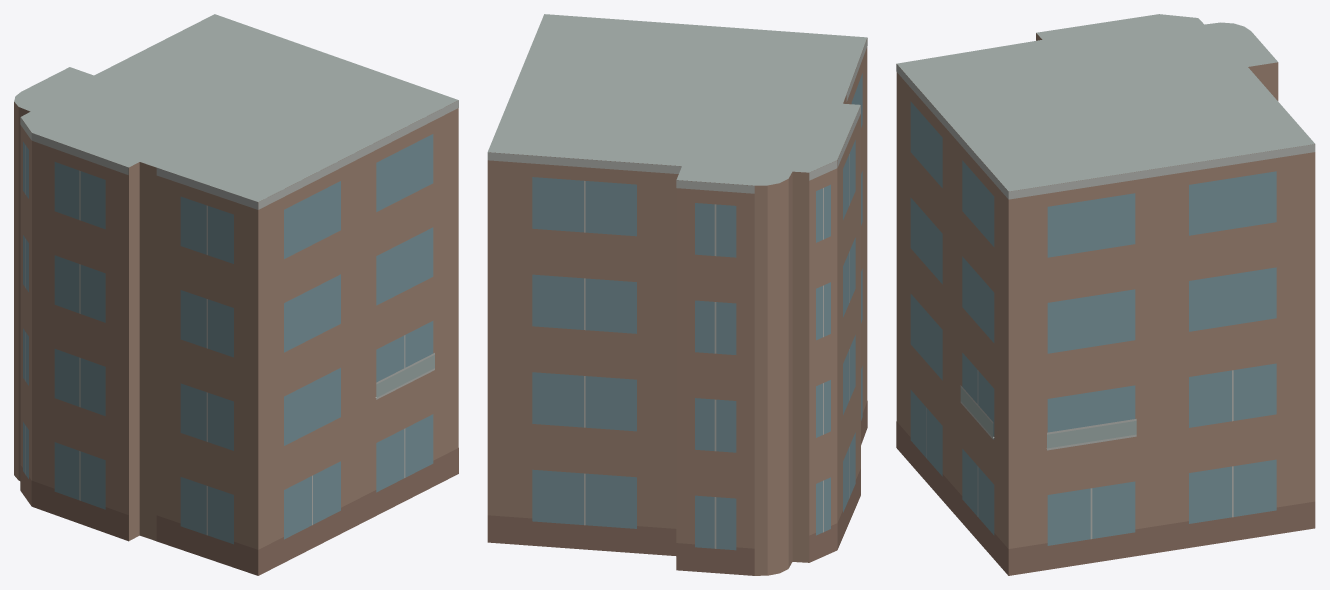
The model's file is survey-upis-32748328.glb.
3 renders of one model, left to right at view 1: azimuth 30°, elevation 25°; view 2: azimuth 150°, elevation 25°; view 3: azimuth 270°, elevation 25°, orthographic. The views are drawn at different scales.
Parts seen in each view (by area): view 1: survey-upis-32748328.tmp; view 2: survey-upis-32748328.tmp; view 3: survey-upis-32748328.tmp.
Part boxes in pixels (<box>): survey-upis-32748328.tmp: <box>14,14,458,575</box>; survey-upis-32748328.tmp: <box>487,14,867,575</box>; survey-upis-32748328.tmp: <box>896,14,1315,575</box>.
Bounding box in the file's own units: 11.55 × 11.65 × 11.52.
